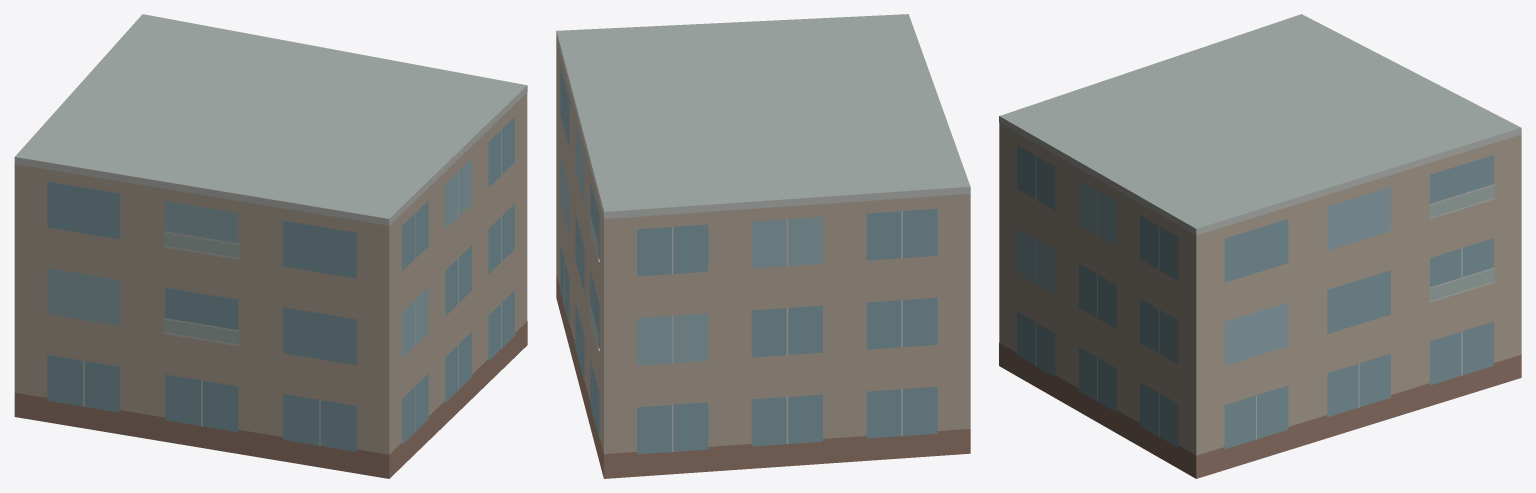
File: survey-upis-33014147.glb
3 views of the same model, side by side, from view 1: azimuth 30°, elevation 25°; view 2: azimuth 150°, elevation 25°; view 3: azimuth 270°, elevation 25° (orthographic). The views are drawn at different scales.
Parts seen in each view (by area): view 1: survey-upis-33014147.tmp; view 2: survey-upis-33014147.tmp; view 3: survey-upis-33014147.tmp.
Part boxes in pixels (<box>): survey-upis-33014147.tmp: <box>14,14,527,478</box>; survey-upis-33014147.tmp: <box>556,14,970,478</box>; survey-upis-33014147.tmp: <box>999,14,1521,478</box>.
Bounding box in the file's own units: 16.88 × 9.15 × 17.34.
